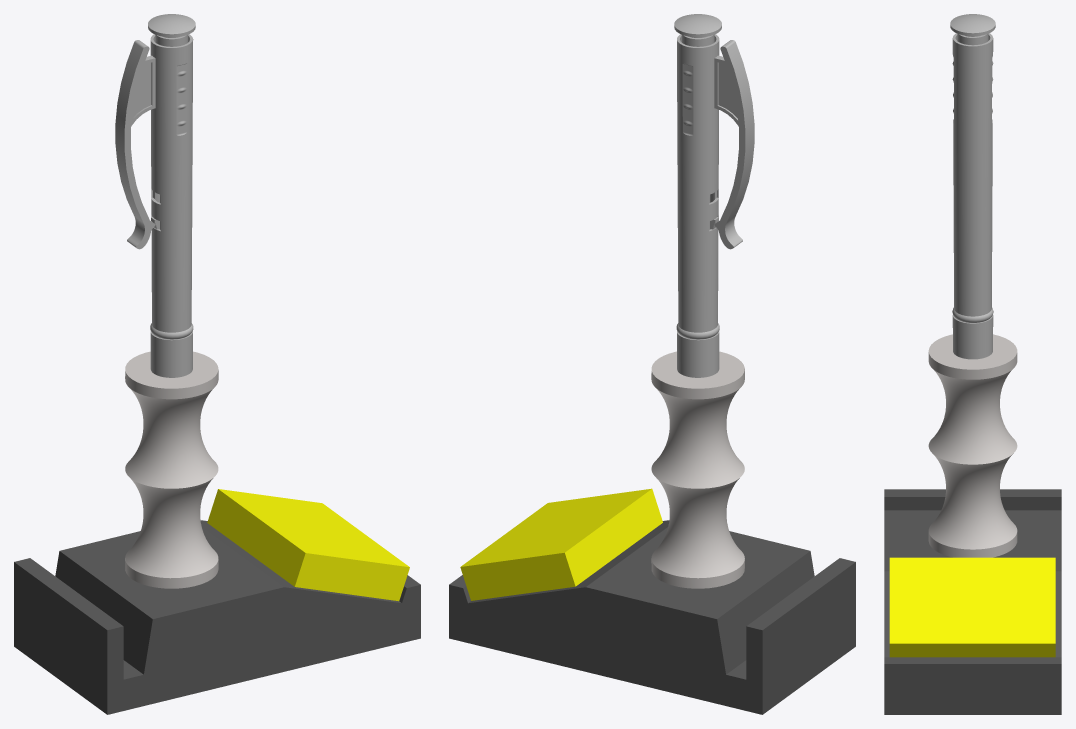
File: config23.glb
3 views of the same model, side by side, from view 1: azimuth 30°, elevation 25°; view 2: azimuth 150°, elevation 25°; view 3: azimuth 270°, elevation 25° (orthographic). The views are drawn at different scales.
Visible parts, largest first — view 1: Socle-2, Porte stylo-1, SADC-SADC Pen_SADC 001-1, post it-1, SADC-SADC Pen_SADC 002-2, SADC-SADC Pen_SADC 005-1; view 2: Socle-2, Porte stylo-1, SADC-SADC Pen_SADC 001-1, post it-1, SADC-SADC Pen_SADC 002-2, SADC-SADC Pen_SADC 005-1; view 3: Socle-2, post it-1, Porte stylo-1, SADC-SADC Pen_SADC 001-1, SADC-SADC Pen_SADC 002-2, SADC-SADC Pen_SADC 005-1.
Boxes of the visible parts, box(x1,y1,x2,y2) form: Socle-2: box(14, 520, 420, 714); Porte stylo-1: box(125, 351, 218, 588); SADC-SADC Pen_SADC 001-1: box(115, 34, 193, 339); post it-1: box(207, 489, 409, 601); SADC-SADC Pen_SADC 002-2: box(150, 331, 192, 377); SADC-SADC Pen_SADC 005-1: box(148, 14, 195, 229); Socle-2: box(449, 520, 855, 714); Porte stylo-1: box(651, 351, 744, 588); SADC-SADC Pen_SADC 001-1: box(676, 34, 754, 339); post it-1: box(460, 488, 662, 600); SADC-SADC Pen_SADC 002-2: box(677, 331, 719, 377); SADC-SADC Pen_SADC 005-1: box(674, 14, 721, 229); Socle-2: box(884, 489, 1061, 714); post it-1: box(889, 557, 1055, 657); Porte stylo-1: box(928, 334, 1017, 557); SADC-SADC Pen_SADC 001-1: box(952, 33, 993, 322); SADC-SADC Pen_SADC 002-2: box(952, 315, 993, 359); SADC-SADC Pen_SADC 005-1: box(950, 14, 995, 45).
Size of the model in its own units: 0.0984 by 0.1899 by 0.0508.
